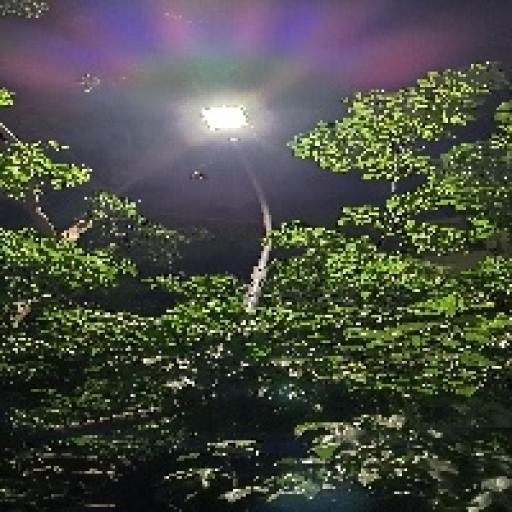Working: (182, 92, 267, 146)
